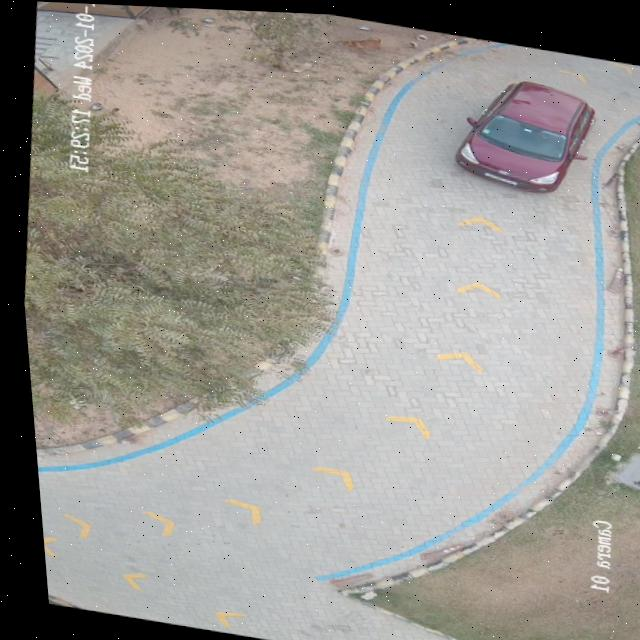car: (452, 73, 596, 187)
